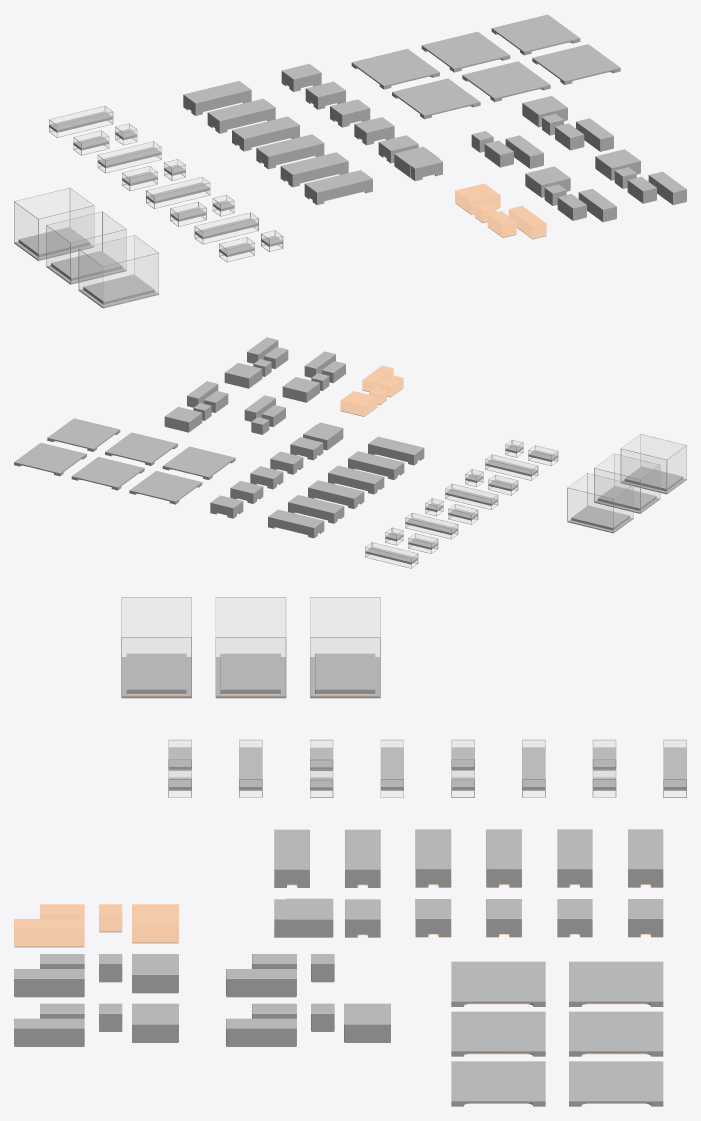
Rendered from NMS_Display_Box1_01.001.gltf.
3 views of the same model, one above another, from view 1: azimuth 30°, elevation 25°; view 2: azimuth 150°, elevation 25°; view 3: azimuth 270°, elevation 25° (orthographic). The views are drawn at different scales.
Visible parts, largest first — view 1: NMS_Display_caseLarge_03, NMS_Display_caseLarge_02, NMS_Display_caseLarge_01, NMS_Display_platform_03, NMS_Display_platform_05, NMS_Display_platform_02, NMS_Display_platform_01, NMS_Display_platform_06, NMS_Display_platform_04, NMS_Display_table_06, NMS_Display_table_04, NMS_Display_table_02 (+32 smaller); view 2: NMS_Display_caseLarge_02, NMS_Display_caseLarge_01, NMS_Display_caseLarge_03, NMS_Display_platform_01, NMS_Display_platform_02, NMS_Display_platform_03, NMS_Display_platform_05, NMS_Display_platform_06, NMS_Display_platform_04, NMS_Display_table_01, NMS_Display_table_03, NMS_Display_table_02 (+29 smaller); view 3: NMS_Display_caseLarge_01, NMS_Display_caseLarge_02, NMS_Display_caseLarge_03, NMS_Display_platform_06, NMS_Display_platform_01, NMS_Display_platform_04, NMS_Display_platform_02, NMS_Display_platform_03, NMS_Display_platform_05, NMS_Display_table_04, NMS_Display_table_06, NMS_Display_table_05 (+26 smaller).
Boxes of the visible parts, <box> form: NMS_Display_caseLarge_03: <box>78,235,158,308</box>; NMS_Display_caseLarge_02: <box>14,187,94,260</box>; NMS_Display_caseLarge_01: <box>46,211,126,284</box>; NMS_Display_platform_03: <box>491,14,580,55</box>; NMS_Display_platform_05: <box>532,44,620,84</box>; NMS_Display_platform_02: <box>421,31,510,72</box>; NMS_Display_platform_01: <box>351,48,439,89</box>; NMS_Display_platform_06: <box>392,78,480,119</box>; NMS_Display_platform_04: <box>462,61,550,102</box>; NMS_Display_table_06: <box>304,170,372,204</box>; NMS_Display_table_04: <box>256,134,324,169</box>; NMS_Display_table_02: <box>207,98,275,133</box>; NMS_Display_caseLarge_02: <box>567,473,633,533</box>; NMS_Display_caseLarge_01: <box>594,453,660,513</box>; NMS_Display_caseLarge_03: <box>620,434,686,494</box>; NMS_Display_platform_01: <box>129,471,202,504</box>; NMS_Display_platform_02: <box>71,457,144,490</box>; NMS_Display_platform_03: <box>14,442,86,476</box>; NMS_Display_platform_05: <box>47,418,120,451</box>; NMS_Display_platform_06: <box>162,446,235,479</box>; NMS_Display_platform_04: <box>105,432,177,465</box>; NMS_Display_table_01: <box>268,509,324,538</box>; NMS_Display_table_03: <box>308,480,364,508</box>; NMS_Display_table_02: <box>288,495,344,523</box>; NMS_Display_caseLarge_01: <box>215,597,286,698</box>; NMS_Display_caseLarge_02: <box>310,597,380,698</box>; NMS_Display_caseLarge_03: <box>121,597,191,698</box>; NMS_Display_platform_06: <box>451,961,545,1006</box>; NMS_Display_platform_01: <box>569,961,663,1006</box>; NMS_Display_platform_04: <box>451,1011,545,1056</box>; NMS_Display_platform_02: <box>569,1011,663,1056</box>; NMS_Display_platform_03: <box>569,1061,663,1106</box>; NMS_Display_platform_05: <box>451,1061,545,1106</box>; NMS_Display_table_04: <box>415,829,451,887</box>; NMS_Display_table_06: <box>274,829,309,887</box>; NMS_Display_table_05: <box>345,829,380,887</box>.
Size of what is drawn, in the model's own units: 45 by 2.88 by 28.55.
